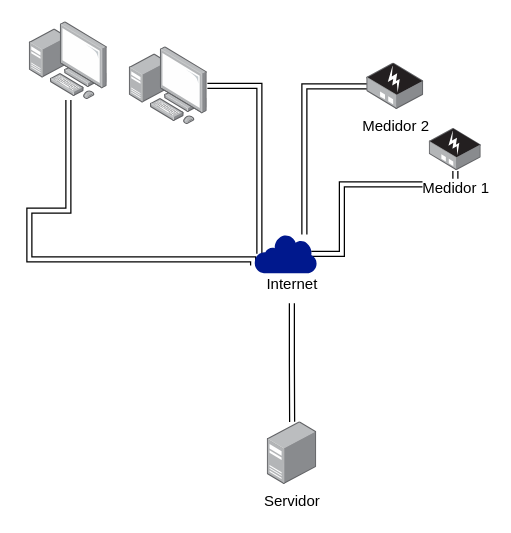
This 511x533 diagram has some shape labels left out. Each missing label, with the box of its shape:
Computador 1: (29, 21, 107, 99)
Computador 2: (129, 46, 207, 124)
